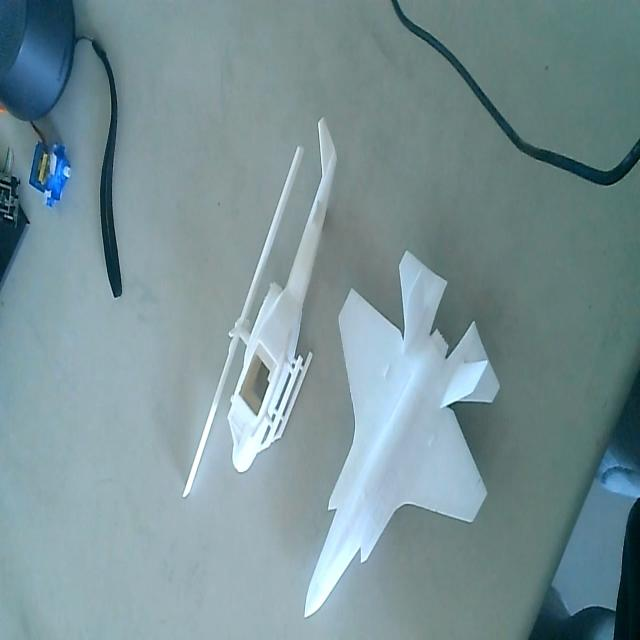Helicopter: (178, 114, 340, 498)
Jet: (305, 245, 503, 620)
